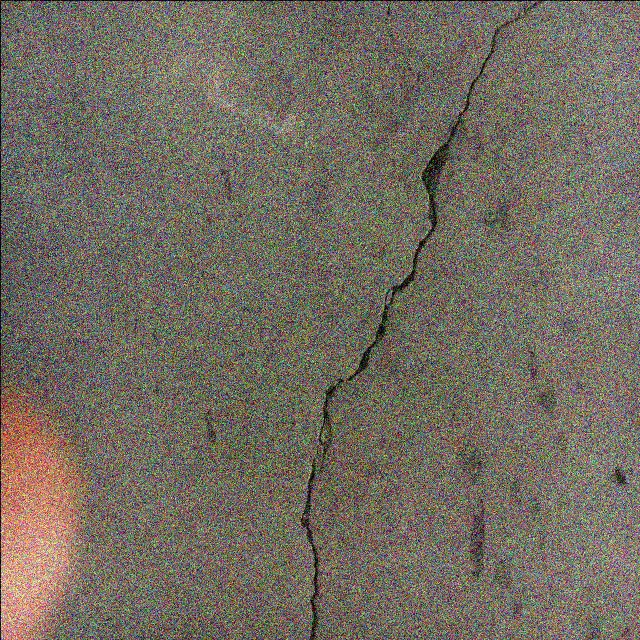SurfaceCrack: (269, 0, 622, 639)
